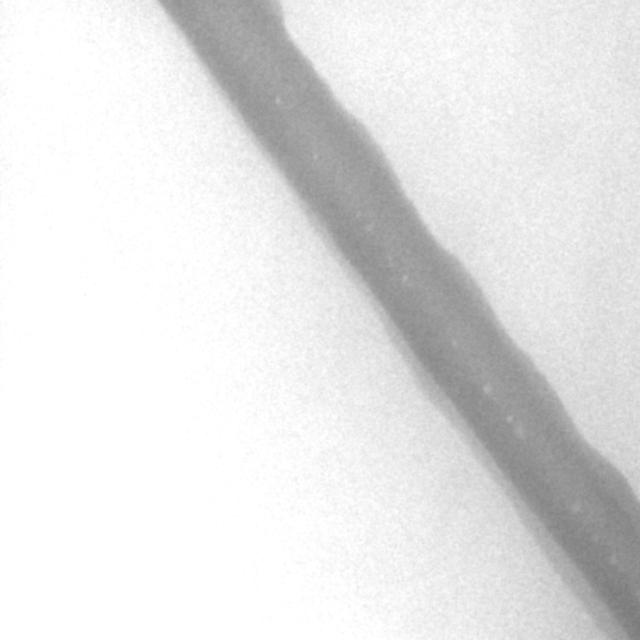air hole: (398, 271, 410, 285), (480, 382, 491, 396), (605, 555, 616, 569), (503, 411, 513, 426), (271, 94, 281, 106)
